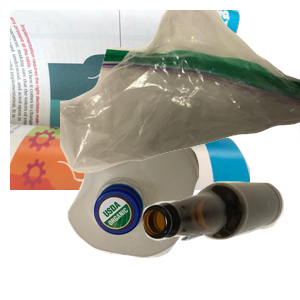glass: (140, 179, 300, 300)
paper: (10, 10, 250, 190)
plastic: (65, 123, 257, 300)
trash: (60, 10, 300, 176)
